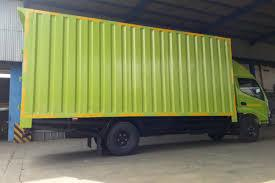truck: (225, 55, 275, 145)
